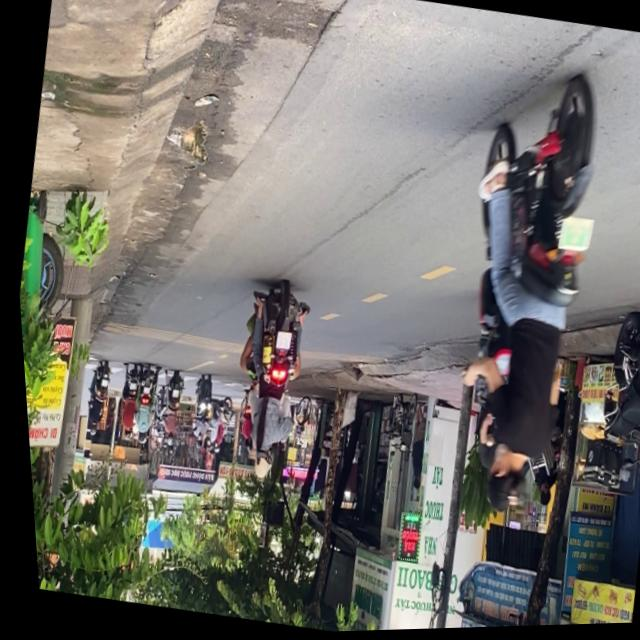helmet: (244, 448, 269, 483)
licenseplate: (411, 60, 636, 532), (210, 276, 319, 488)
motorcyclist: (472, 446, 527, 520)
nohelmet: (554, 221, 593, 258), (269, 332, 287, 352)
